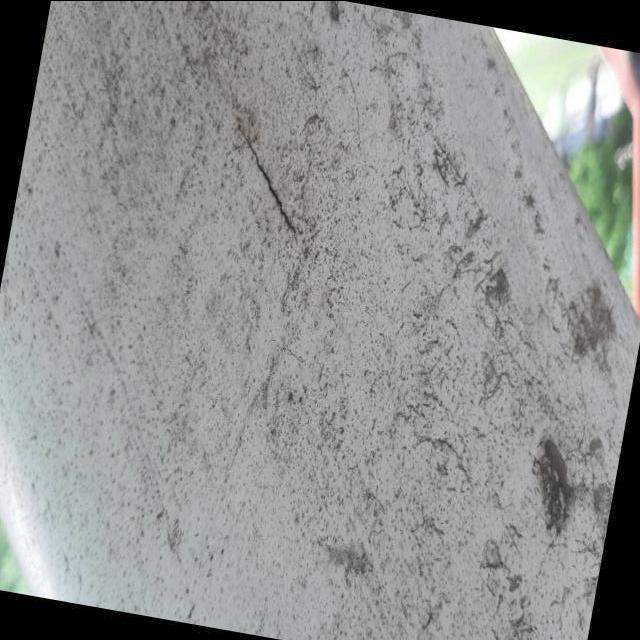defect: (233, 123, 302, 249)
